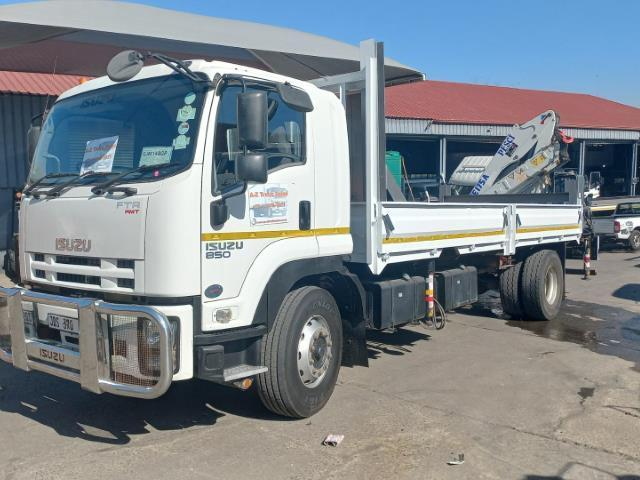truck: (3, 39, 577, 421)
